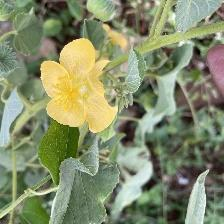indian mallow: (40, 38, 121, 136)
